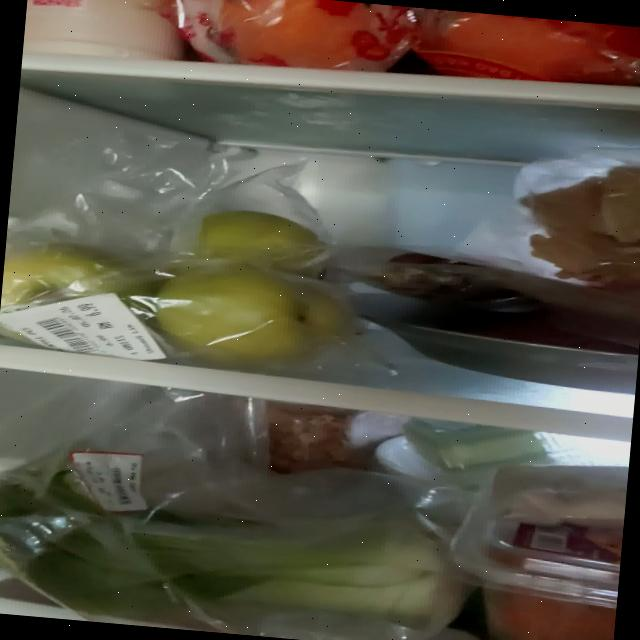apple: (0, 188, 360, 377)
orange: (176, 0, 640, 101)
pakchoy: (0, 467, 467, 640)
